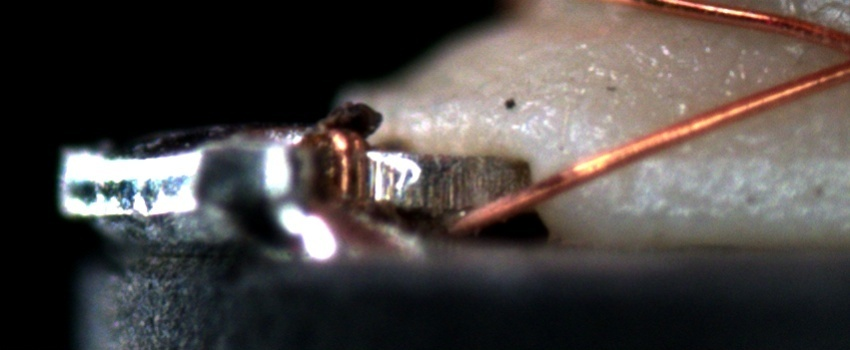DL: (636, 127, 849, 191)
TE: (322, 119, 372, 210)
